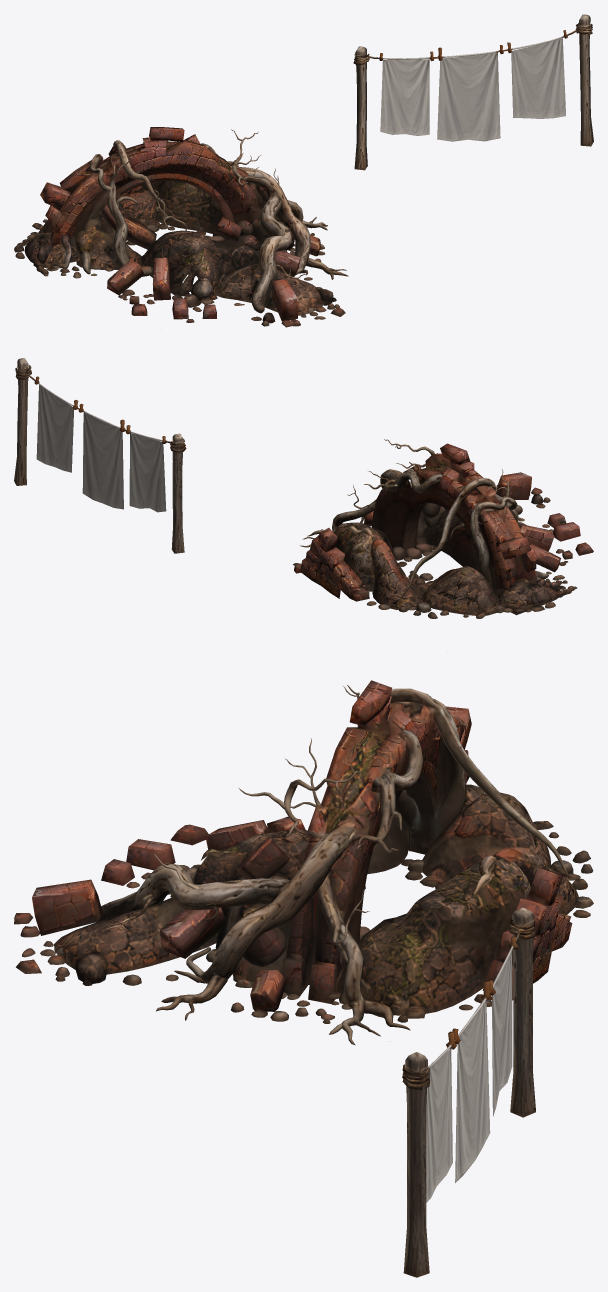
Rendered from act1_kit_v1_R26_root_fall_drying_line.glb.
3 renders of one model, top to bottom at view 1: azimuth 30°, elevation 25°; view 2: azimuth 150°, elevation 25°; view 3: azimuth 270°, elevation 25°, orthographic. The views are drawn at different scales.
Visible parts, largest first — view 1: tripo_4320276a_77d4_420b_b033_a3c88c4060bc; view 2: tripo_4320276a_77d4_420b_b033_a3c88c4060bc; view 3: tripo_4320276a_77d4_420b_b033_a3c88c4060bc.
Boxes of the visible parts, x1,y1,x2,y2 form: tripo_4320276a_77d4_420b_b033_a3c88c4060bc: (14, 14, 593, 327); tripo_4320276a_77d4_420b_b033_a3c88c4060bc: (14, 358, 593, 618); tripo_4320276a_77d4_420b_b033_a3c88c4060bc: (14, 680, 593, 1277).
Bounding box in the file's own units: 0.9995 × 0.3481 × 0.5239.
1 material, 1 textured.
